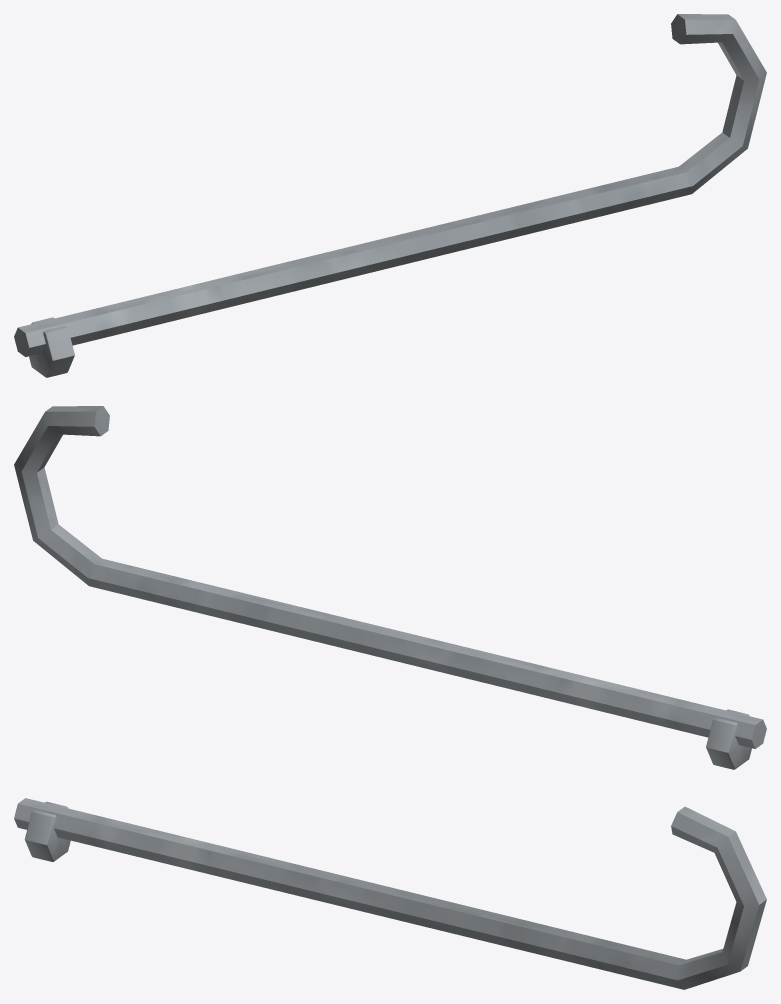
File: COB-ACS-003.glb
3 views of the same model, one above another, from view 1: azimuth 30°, elevation 25°; view 2: azimuth 150°, elevation 25°; view 3: azimuth 330°, elevation 25° (orthographic).
Parts seen in each view (by area): view 1: COB-ACS-003_haste, COB-ACS-003_porca; view 2: COB-ACS-003_haste, COB-ACS-003_porca; view 3: COB-ACS-003_haste, COB-ACS-003_porca.
Part boxes in pixels (left/top/right/bottom): COB-ACS-003_haste: left=14, top=14, right=766, bottom=356; COB-ACS-003_porca: left=29, top=317, right=74, bottom=377; COB-ACS-003_haste: left=14, top=406, right=766, bottom=748; COB-ACS-003_porca: left=706, top=709, right=751, bottom=769; COB-ACS-003_haste: left=14, top=798, right=766, bottom=989; COB-ACS-003_porca: left=24, top=801, right=70, bottom=861.
Bounding box in the file's own units: 0.2234 × 0.0574 × 0.015.
1 material, 1 textured.
